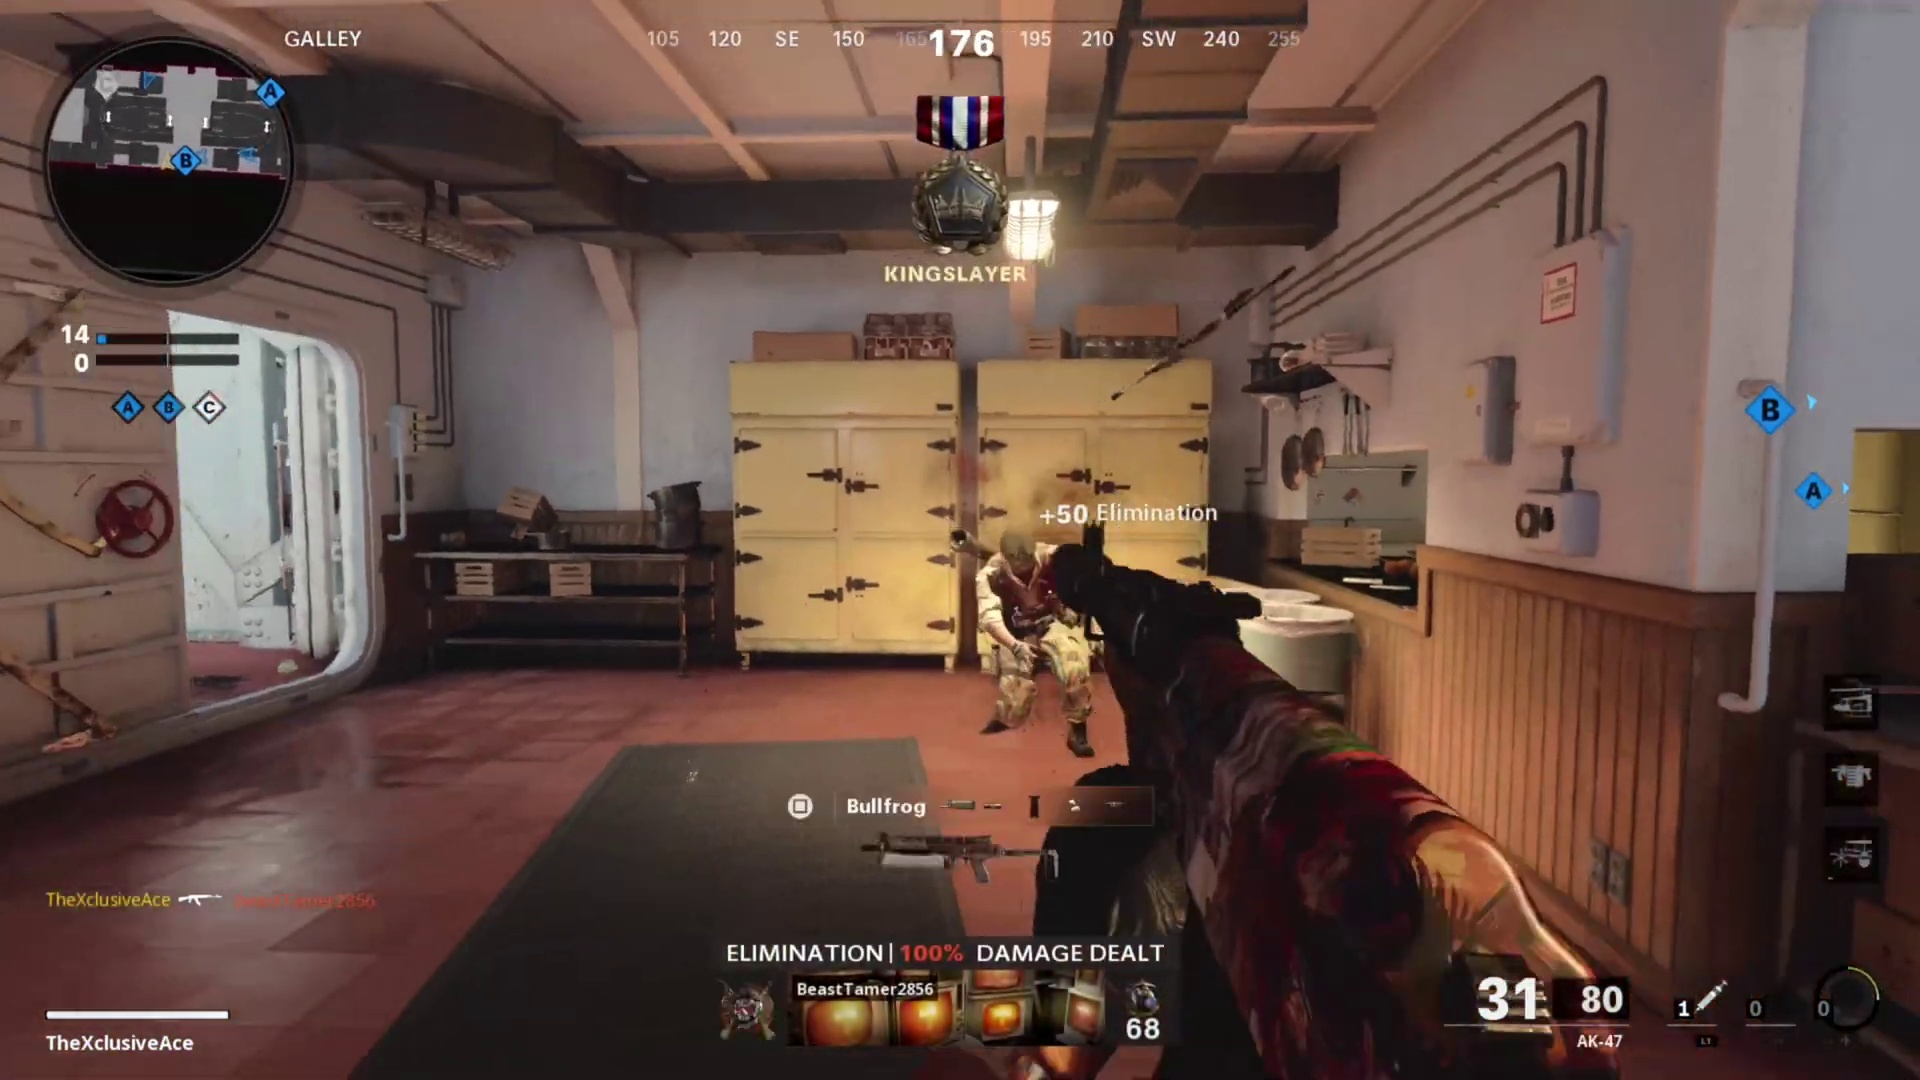head: (998, 530, 1043, 587)
person: (972, 529, 1092, 749)
